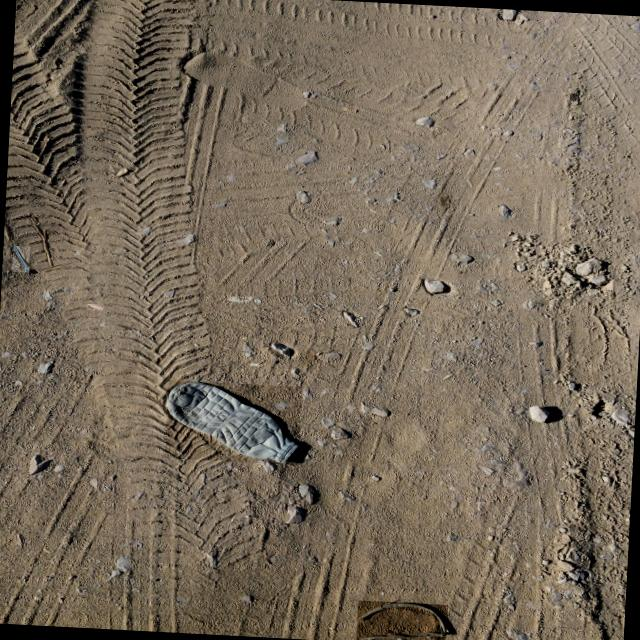Cigarette: (87, 305, 103, 311)
Clear plastic bottle: (167, 382, 298, 464)
Other plastic bottle: (360, 603, 447, 640), (13, 247, 29, 273)
